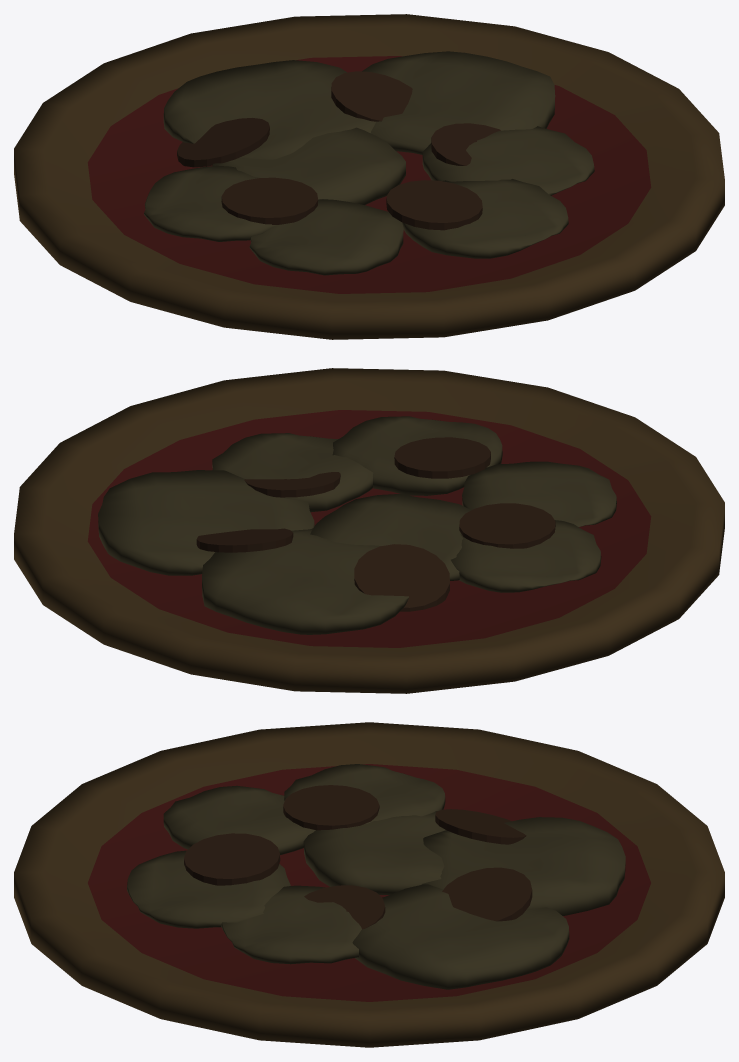
File: BurntPizza(Tomato Cheese and Pepperoni).glb
3 renders of one model, top to bottom at view 1: azimuth 30°, elevation 25°; view 2: azimuth 150°, elevation 25°; view 3: azimuth 270°, elevation 25°, orthographic.
Visible parts, largest first — view 1: Cylinder.048; view 2: Cylinder.048; view 3: Cylinder.048.
Part boxes in pixels (left/top/right/bottom): Cylinder.048: left=14, top=14, right=724, bottom=339; Cylinder.048: left=14, top=368, right=724, bottom=693; Cylinder.048: left=14, top=722, right=724, bottom=1047.
Bounding box in the file's own units: 0.8833 × 0.0613 × 0.8833.
